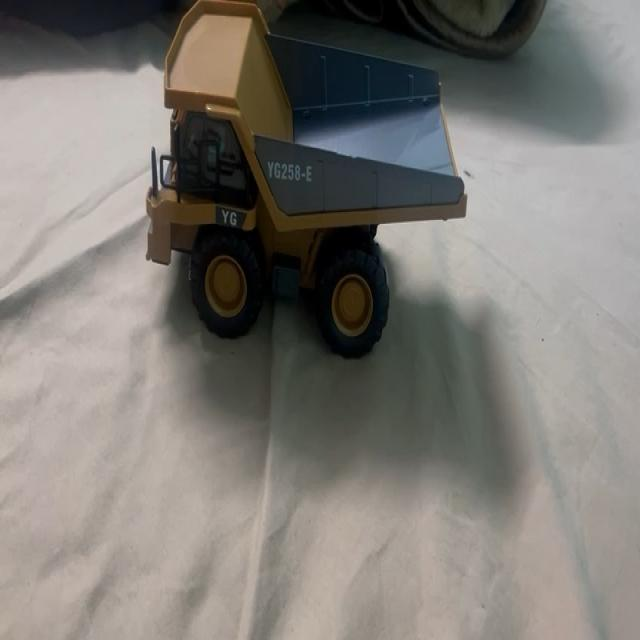dump_truck: (144, 0, 469, 351)
